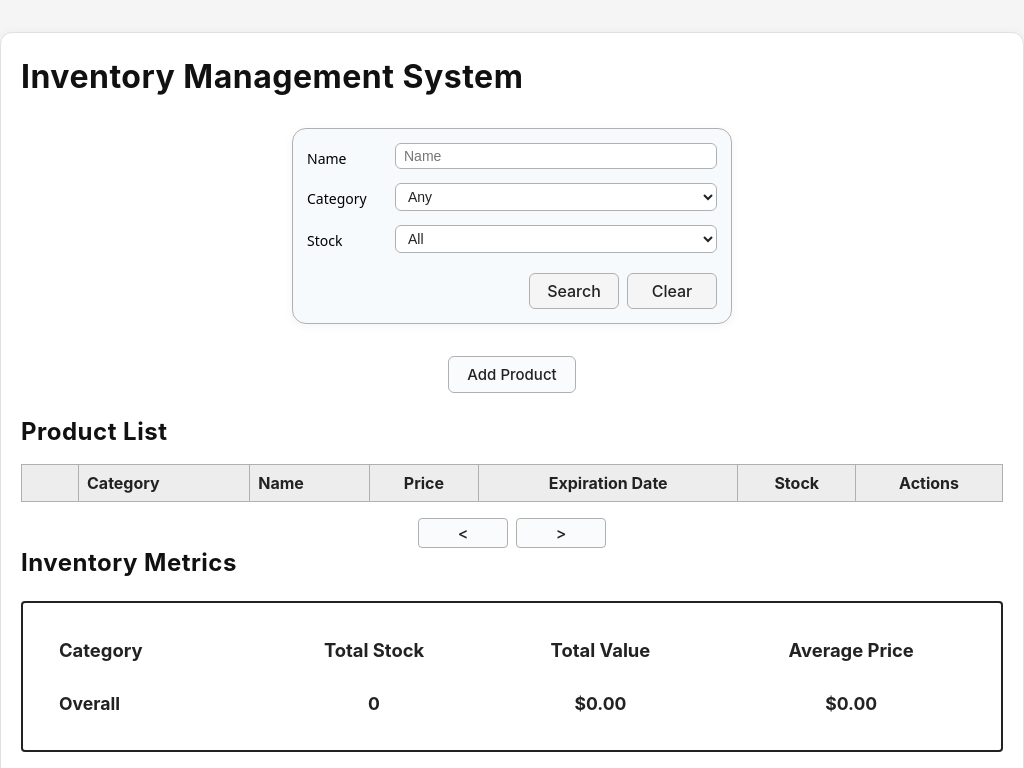
Scenario: App › opens modal when Add Product button is clicked
The width and height of the screenshot is (1024, 768).
Click the button "Add Product".
click(512, 374)  # box [448, 356, 576, 393]
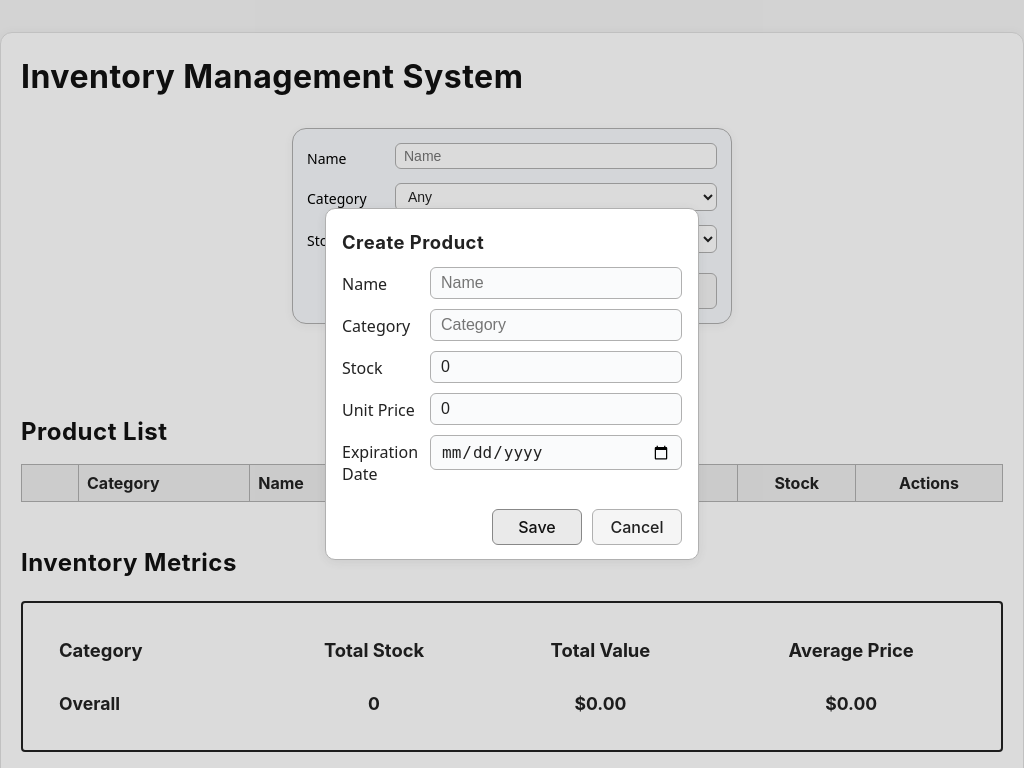
Result: the heading "Create Product" is shown at [342, 231, 484, 253]
